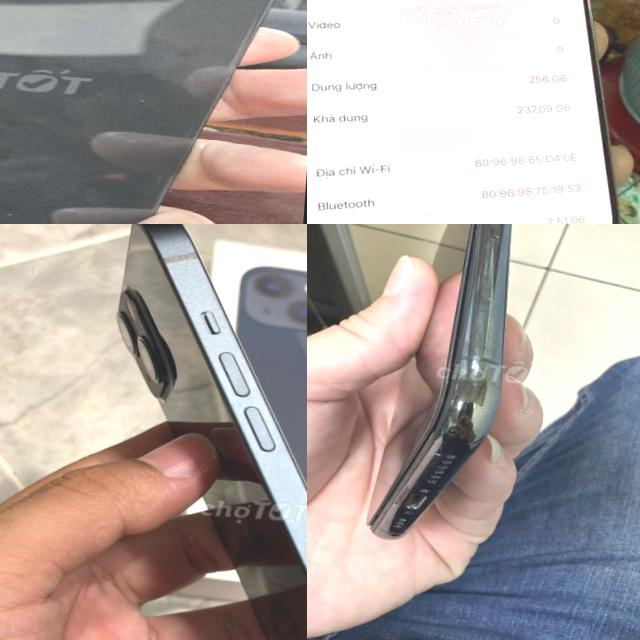gen_11: (359, 224, 548, 530)
gen_12_13: (83, 224, 307, 640)
gen_16: (307, 0, 615, 224)
gen_x_xs: (0, 0, 272, 224)
